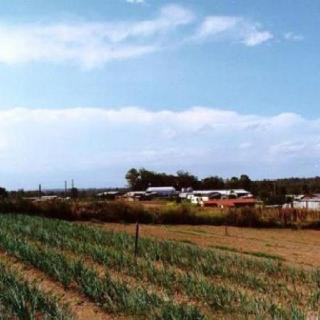Stratus: (0, 0, 320, 177)
